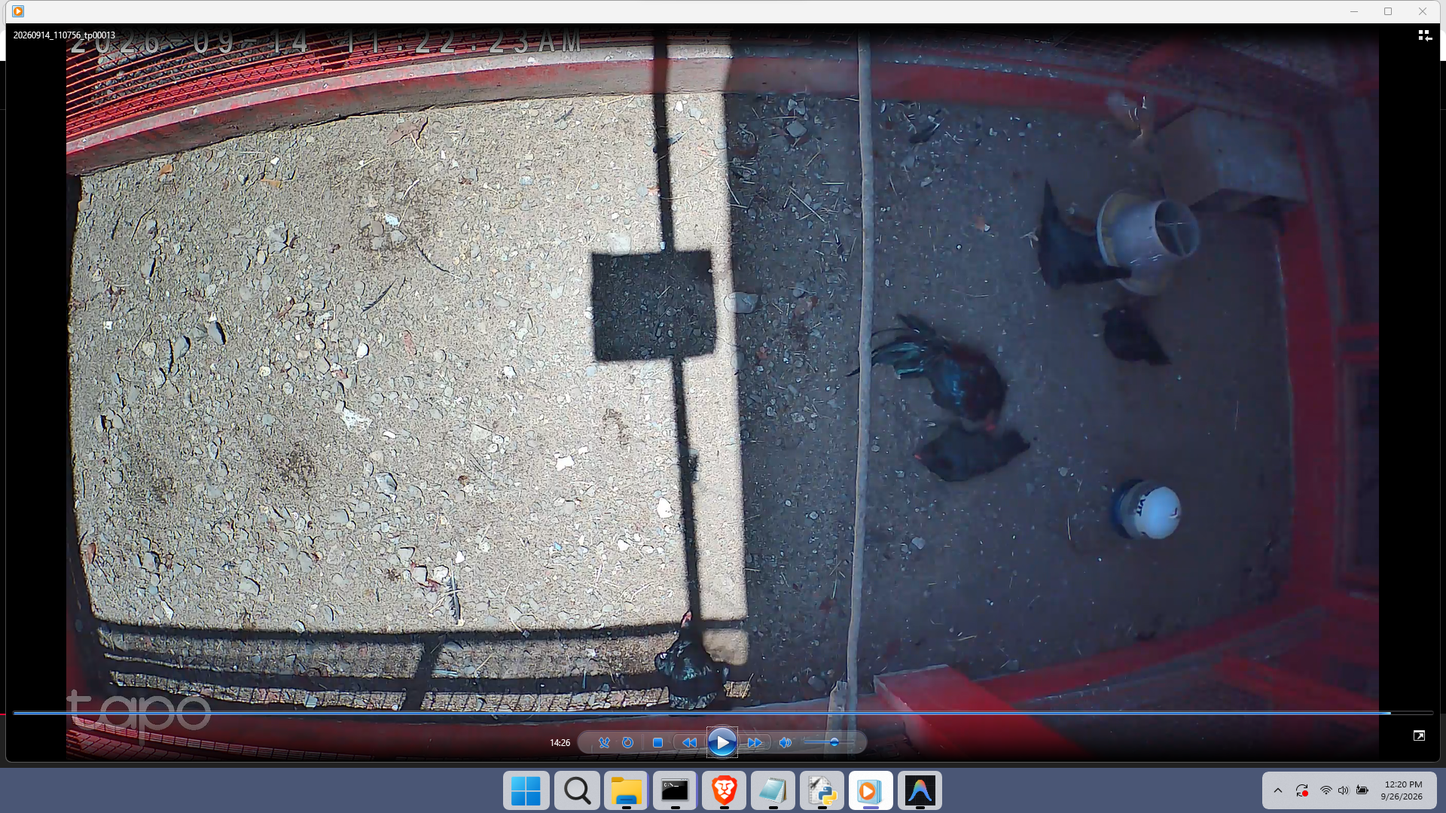Chicken: (1019, 175, 1133, 293), (650, 606, 745, 719), (910, 419, 1036, 484), (1097, 305, 1180, 370)
Drinker: (1111, 478, 1188, 545)
Feeder: (1093, 186, 1211, 303)
Rooster: (847, 311, 1011, 433)
